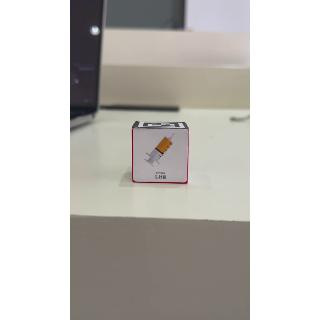Syringe: (134, 129, 190, 183)
